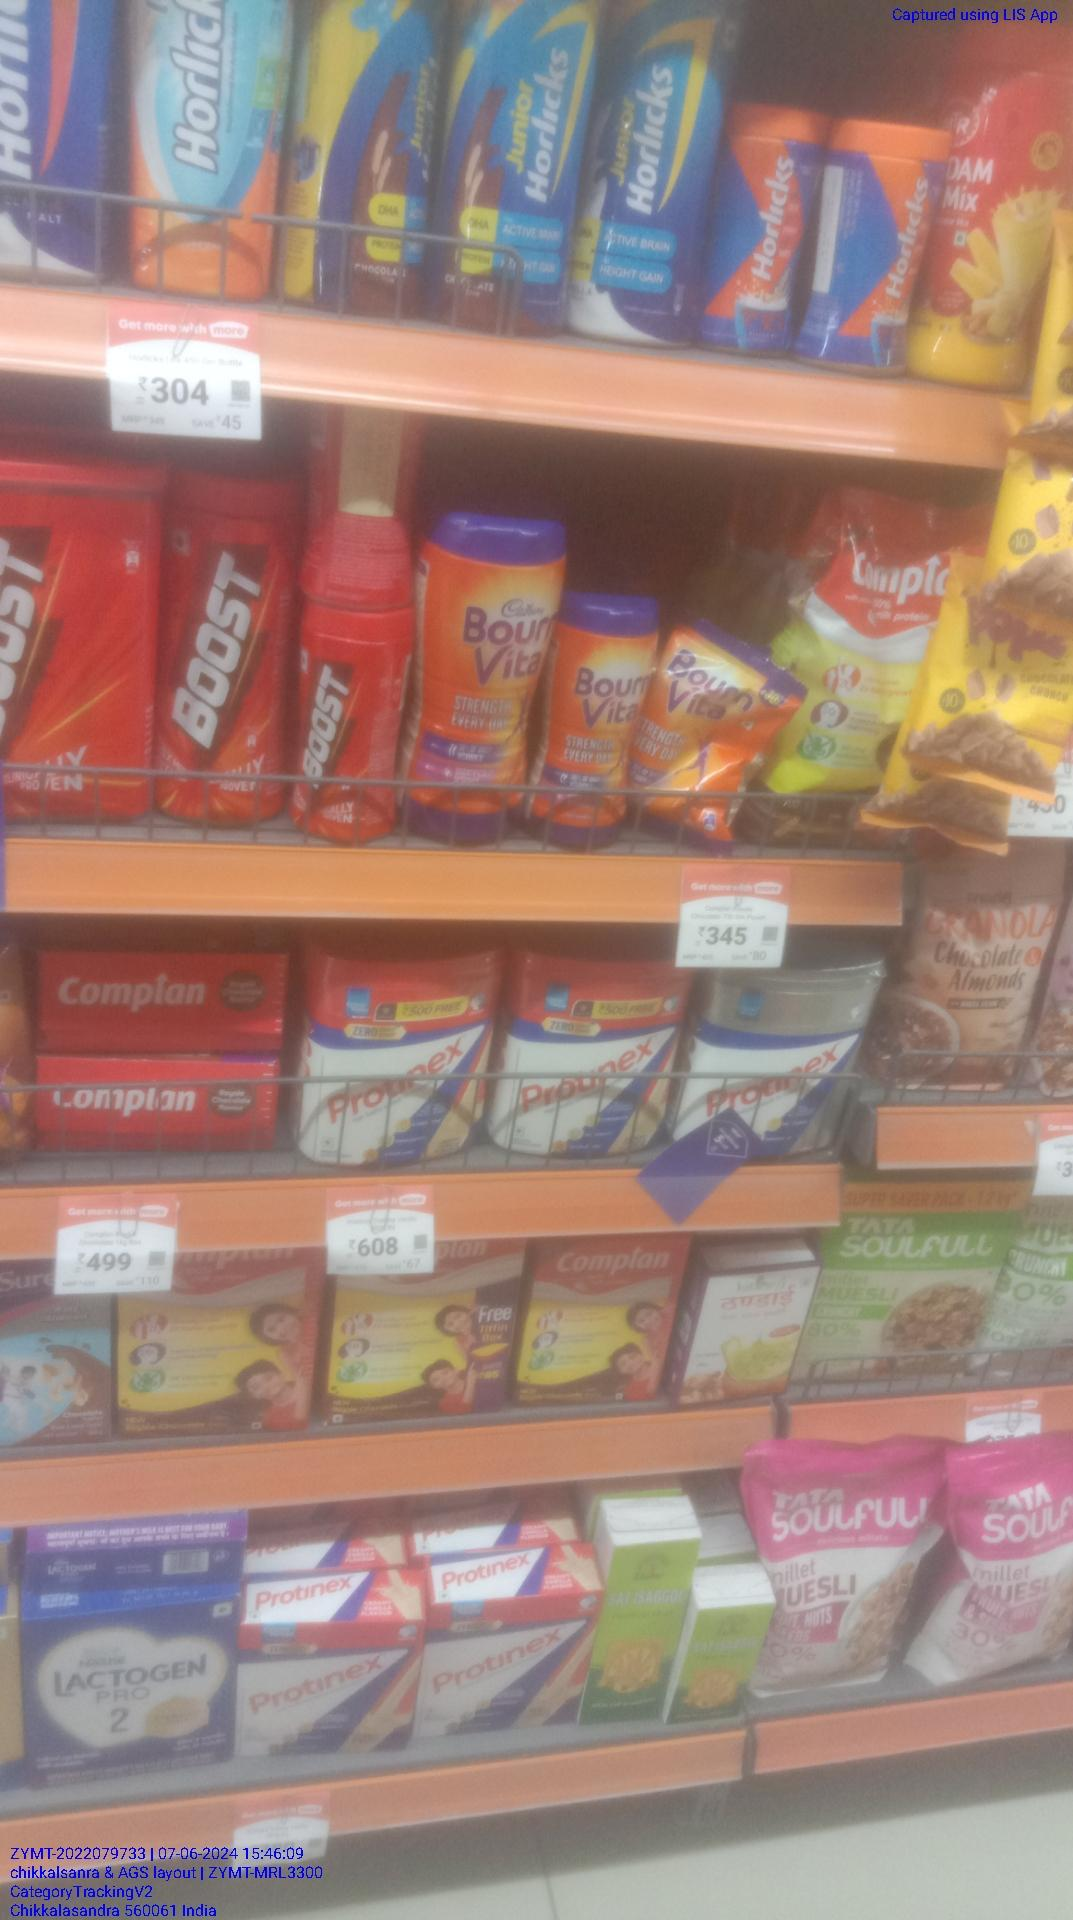HORLICKS_LITE_REGULAR_MALT_500_GM_JAR: (117, 3, 281, 297)
HORLICK_CLASSIC_MALT_200_G_JAR: (815, 123, 928, 367), (718, 111, 797, 355)
PROTINEX_ORIGINAL_400_G_JAR: (676, 957, 886, 1158)
PROTINEX_VANILLA_400_G_JAR: (308, 953, 498, 1166), (506, 951, 675, 1160)
